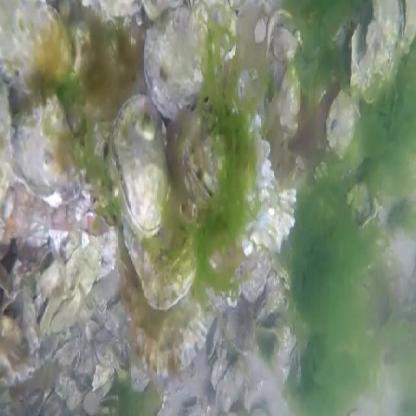Oyster- Indeterminate: (110, 94, 174, 237), (143, 2, 218, 116), (10, 95, 88, 203), (0, 337, 41, 393), (398, 0, 416, 49), (210, 353, 227, 394), (91, 283, 104, 312)
Oyster-Closed: (170, 95, 296, 253), (126, 253, 205, 375), (119, 191, 197, 309), (0, 0, 74, 94), (327, 89, 359, 155), (217, 357, 246, 411), (0, 74, 12, 204), (279, 66, 301, 129), (52, 292, 82, 332), (79, 246, 98, 292), (273, 27, 297, 61), (92, 366, 111, 389), (58, 373, 74, 399), (85, 392, 101, 414)
Oyster-Open: (350, 0, 402, 102), (87, 0, 143, 20), (29, 387, 50, 416), (100, 394, 118, 412)
